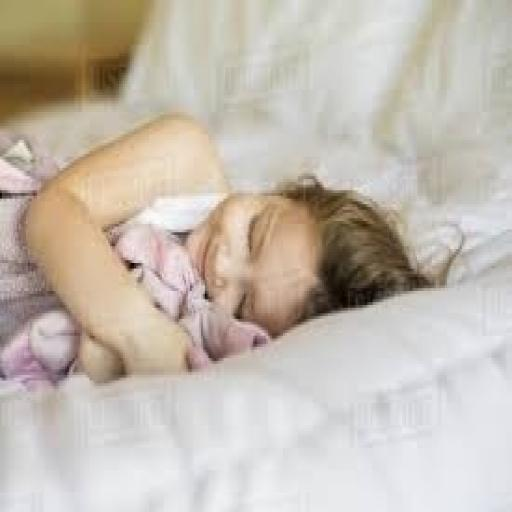sleeping: (0, 106, 436, 389)
